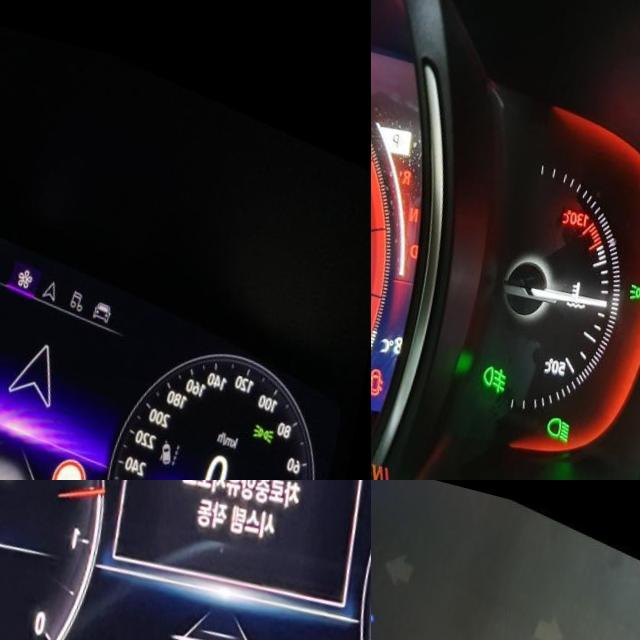Doors: (382, 356, 404, 388)
FrontFogLight: (499, 349, 526, 381)
Low beam: (563, 395, 591, 425)
SideLamp: (264, 393, 289, 415)
